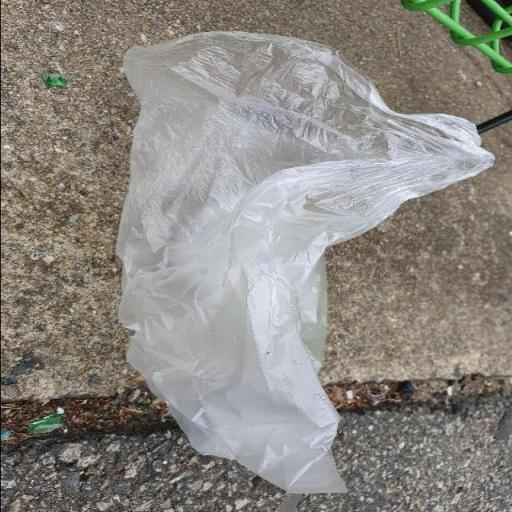plastic-bag: (111, 28, 497, 496)
